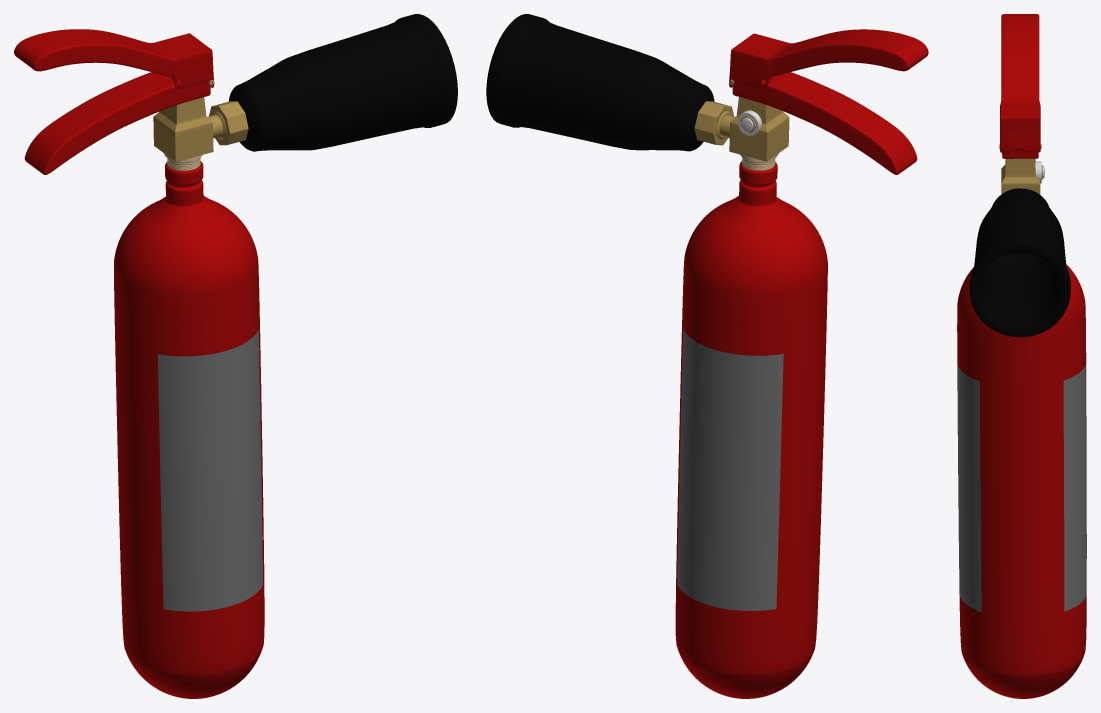
The model's file is fire extinguisher.fbx.
3 renders of one model, left to right at view 1: azimuth 30°, elevation 25°; view 2: azimuth 150°, elevation 25°; view 3: azimuth 270°, elevation 25°, orthographic. The views are drawn at different scales.
Parts seen in each view (by area): view 1: polySurface46, polySurface45, polySurface43, polySurface47, polySurface53, polySurface51; view 2: polySurface46, polySurface45, polySurface43, polySurface47, polySurface53, polySurface51; view 3: polySurface46, polySurface45, polySurface43, polySurface53, polySurface47.
Part boxes in pixels (box(x1,y1,x2,y2)): polySurface46: box(114, 161, 264, 698); polySurface45: box(228, 14, 457, 151); polySurface43: box(14, 29, 214, 89); polySurface47: box(24, 72, 210, 174); polySurface53: box(153, 97, 213, 161); polySurface51: box(209, 101, 248, 145); polySurface46: box(675, 161, 827, 698); polySurface45: box(486, 14, 714, 151); polySurface43: box(729, 29, 928, 89); polySurface47: box(732, 72, 917, 174); polySurface53: box(729, 97, 789, 161); polySurface51: box(694, 101, 733, 145); polySurface46: box(957, 264, 1086, 698); polySurface45: box(969, 188, 1070, 337); polySurface43: box(1000, 14, 1040, 152); polySurface53: box(1001, 158, 1040, 194); polySurface47: box(1002, 151, 1038, 158).
Bounding box in the file's own units: 31.75 × 51.27 × 9.87.
